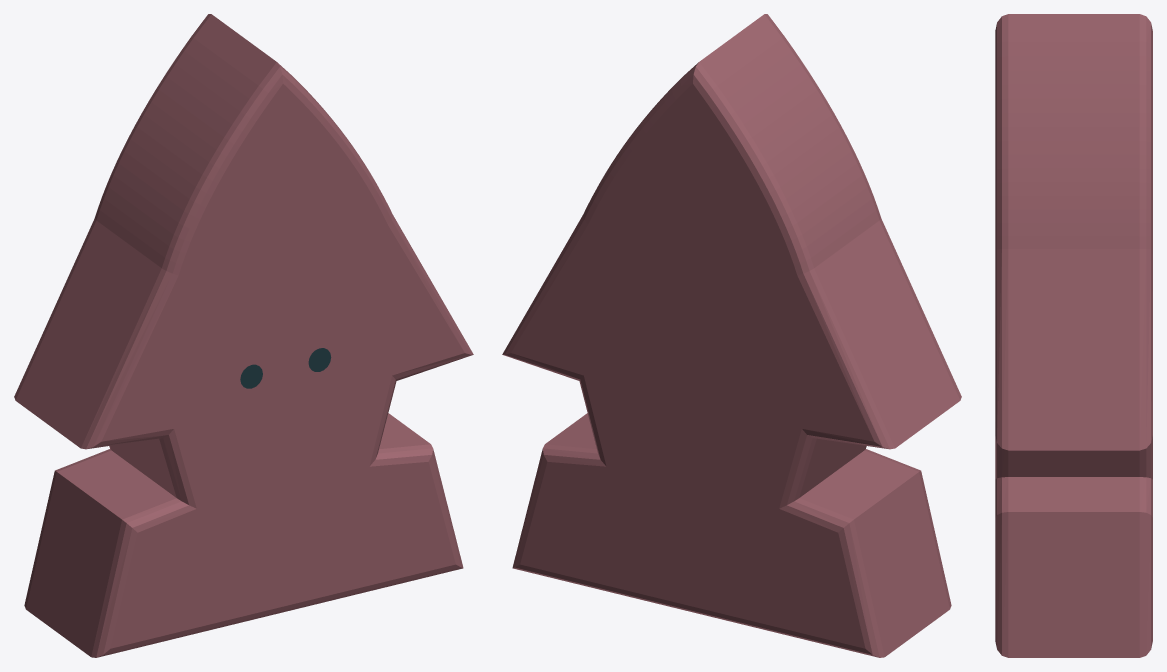
File: meeple-2.glb
3 views of the same model, side by side, from view 1: azimuth 30°, elevation 25°; view 2: azimuth 150°, elevation 25°; view 3: azimuth 270°, elevation 25° (orthographic).
Visible parts, largest first — view 1: meeple-2-오징어; view 2: meeple-2-오징어; view 3: meeple-2-오징어.
Part boxes in pixels (<box>): meeple-2-오징어: <box>14,14,473,657</box>; meeple-2-오징어: <box>502,14,961,657</box>; meeple-2-오징어: <box>995,14,1152,657</box>.
Size of the model in its own units: 0.0223 by 0.03 by 0.008.
